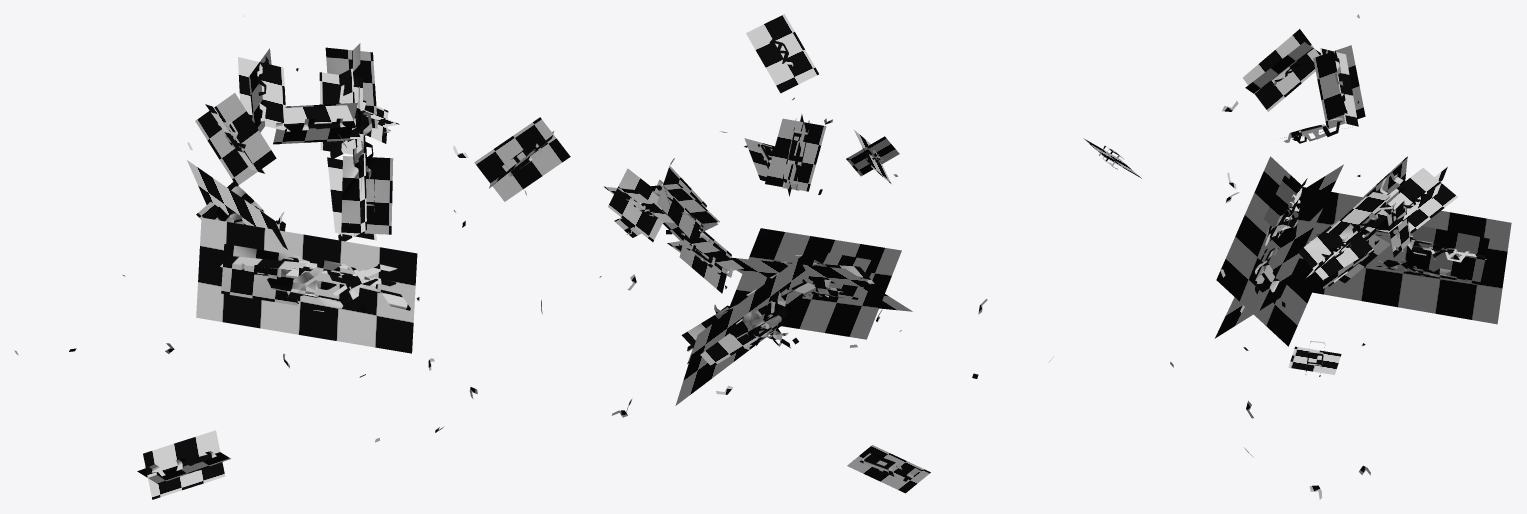
Rendered from zone_scrap_pirates2.obj.
3 views of the same model, side by side, from view 1: azimuth 30°, elevation 25°; view 2: azimuth 150°, elevation 25°; view 3: azimuth 270°, elevation 25° (orthographic). The views are drawn at different scales.
Visible parts, largest first — view 1: claster_scrap_2; view 2: claster_scrap_2; view 3: claster_scrap_2.
Boxes of the visible parts, <box> form: claster_scrap_2: <box>14,16,570,499</box>; claster_scrap_2: <box>599,14,1052,493</box>; claster_scrap_2: <box>1083,14,1511,499</box>.
Bounding box in the file's own units: 308 × 258 × 246.
Materials: 1 (1 with a texture image).
